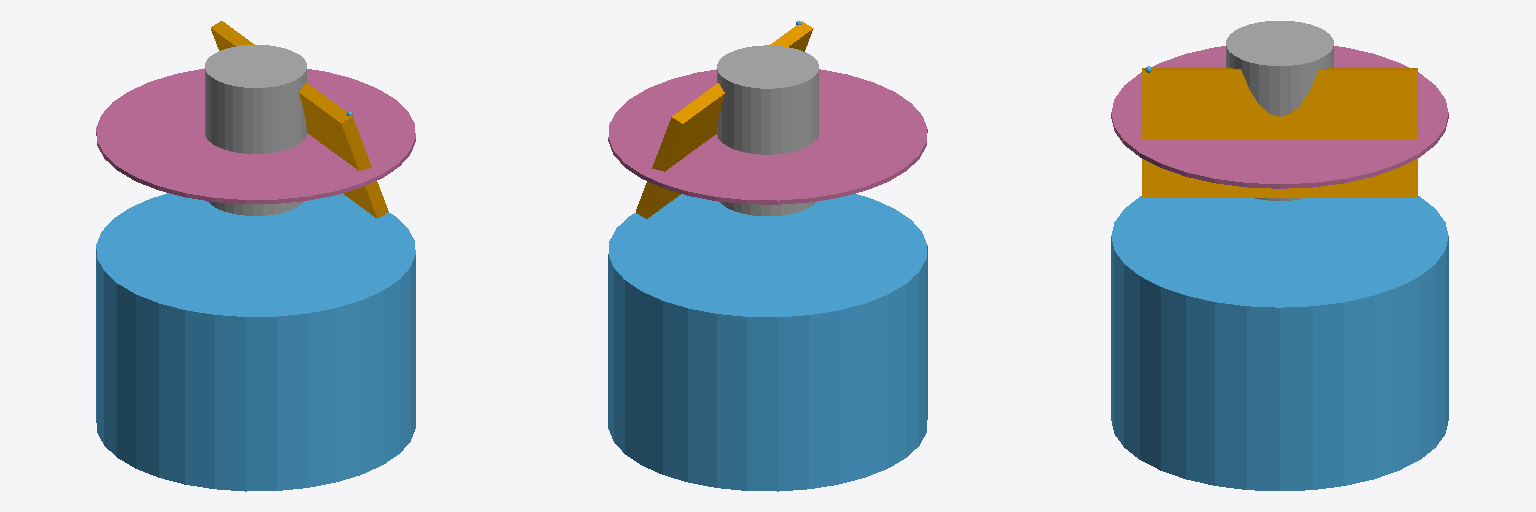
The robot description file, URDF, robot "makerspet_loki":
<?xml version="1.0"?>
<robot name="makerspet_loki">
  <link name="base_footprint" />
  <link name="base_link">
    <visual>
      <geometry>
        <cylinder radius="0.1021" length="0.1227" />
      </geometry>
    </visual>
    <collision>
      <geometry>
        <cylinder radius="0.1021" length="0.1227" />
      </geometry>
    </collision>
  </link>
  <link name="caster_link">
    <visual>
      <geometry>
        <sphere radius="0.02" />
      </geometry>
    </visual>
    <collision>
      <geometry>
        <sphere radius="0.02" />
      </geometry>
    </collision>
  </link>
  <link name="wheel_left">
    <visual>
      <geometry>
        <cylinder radius="0.0335" length="0.029" />
      </geometry>
    </visual>
    <collision>
      <geometry>
        <cylinder radius="0.0335" length="0.029" />
      </geometry>
    </collision>
  </link>
  <link name="wheel_right">
    <visual>
      <geometry>
        <cylinder radius="0.0335" length="0.029" />
      </geometry>
    </visual>
    <collision>
      <geometry>
        <cylinder radius="0.0335" length="0.029" />
      </geometry>
    </collision>
  </link>
  <link name="base_scan">
    <visual>
      <geometry>
        <cylinder radius="0.0328" length="0.018" />
      </geometry>
    </visual>
    <collision>
      <geometry>
        <cylinder radius="0.0328" length="0.018" />
      </geometry>
    </collision>
  </link>
  <link name="base_upper">
    <visual>
      <geometry>
        <cylinder radius="0.1021" length="0.003" />
      </geometry>
    </visual>
    <collision>
      <geometry>
        <cylinder radius="0.1021" length="0.003" />
      </geometry>
    </collision>
  </link>
  <link name="head">
    <visual>
      <geometry>
        <cylinder radius="0.0328" length="0.09" />
      </geometry>
    </visual>
    <collision>
      <geometry>
        <cylinder radius="0.0328" length="0.09" />
      </geometry>
    </collision>
  </link>
  <link name="tablet">
    <visual>
      <geometry>
        <box size="0.009 0.1669 0.0781" />
      </geometry>
    </visual>
    <collision>
      <geometry>
        <box size="0.009 0.1669 0.0781" />
      </geometry>
    </collision>
  </link>
  <link name="color_camera">
    <visual>
      <geometry>
        <sphere radius="0.002" />
      </geometry>
    </visual>
    <collision>
      <geometry>
        <sphere radius="0.002" />
      </geometry>
    </collision>
  </link>
  <link name="imu">
    <visual>
      <geometry>
        <box size="0.001 0.002 0.004" />
      </geometry>
    </visual>
    <collision>
      <geometry>
        <box size="0.001 0.002 0.004" />
      </geometry>
    </collision>
  </link>
  <joint name="base_footprint_to_base_link" type="fixed">
    <parent link="base_footprint" />
    <child link="base_link" />
    <origin xyz="0 0 0.018" />
  </joint>
  <joint name="base_link_to_caster_link" type="fixed">
    <parent link="base_link" />
    <child link="caster_link" />
    <origin xyz="0.0656 0 0.002" />
  </joint>
  <joint name="base_link_to_wheel_left" type="continuous">
    <parent link="base_link" />
    <child link="wheel_left" />
    <origin xyz="0 0.0795 0.0155" rpy="-1.57 0 0" />
    <axis xyz="0 1 0" />
  </joint>
  <joint name="base_link_to_wheel_right" type="continuous">
    <parent link="base_link" />
    <child link="wheel_right" />
    <origin xyz="0 -0.0795 0.0155" rpy="-1.57 0 0" />
    <axis xyz="0 1 0" />
  </joint>
  <joint name="base_link_to_base_scan" type="fixed">
    <parent link="base_link" />
    <child link="base_scan" />
    <origin xyz="0 0 0.1316" />
  </joint>
  <joint name="base_link_to_base_upper" type="fixed">
    <parent link="base_link" />
    <child link="base_upper" />
    <origin xyz="0 0 0.1422" />
  </joint>
  <joint name="base_upper_to_head" type="fixed">
    <parent link="base_upper" />
    <child link="head" />
    <origin xyz="0 0 0.003" />
  </joint>
  <joint name="head_to_tablet" type="fixed">
    <parent link="head" />
    <child link="tablet" />
    <origin xyz="0.0321 0 0" rpy="0 -0.349 0" />
  </joint>
  <joint name="tablet_to_color_camera" type="fixed">
    <parent link="tablet" />
    <child link="color_camera" />
    <origin xyz="0.0045 -0.0795 0.039" />
  </joint>
  <joint name="tablet_to_imu" type="fixed">
    <parent link="tablet" />
    <child link="imu" />
    <origin xyz="0 0 0.039" />
  </joint>
</robot>

--- What the picture shows (computed from the rendered views, not written in the file) ---
The picture shows the robot from 3 angles, left to right: view 1: azimuth 30°, elevation 25°; view 2: azimuth 150°, elevation 25°; view 3: azimuth 270°, elevation 25°; orthographic projection.
Model makerspet_loki with 11 links and 10 joints (2 continuous, 8 fixed), rooted at base_footprint, posed every joint at zero.
Links seen in each view (by area): view 1: base_link, base_upper, head, tablet; view 2: base_link, base_upper, head, tablet; view 3: base_link, tablet, base_upper, head.
Boxes of the visible links, x1=… form: base_link: x1=96, y1=193, x2=415, y2=491; base_upper: x1=96, y1=68, x2=415, y2=203; head: x1=205, y1=45, x2=306, y2=215; tablet: x1=211, y1=21, x2=388, y2=218; base_link: x1=608, y1=194, x2=927, y2=491; base_upper: x1=608, y1=69, x2=927, y2=204; head: x1=717, y1=45, x2=818, y2=215; tablet: x1=636, y1=21, x2=813, y2=218; base_link: x1=1111, y1=196, x2=1448, y2=490; tablet: x1=1142, y1=68, x2=1417, y2=197; base_upper: x1=1111, y1=46, x2=1448, y2=188; head: x1=1226, y1=21, x2=1333, y2=200.
Size in the robot's own frame: 0.2042 by 0.2042 by 0.2516 metres.
Geometry: primitives only (box / cylinder / sphere), no mesh files.
